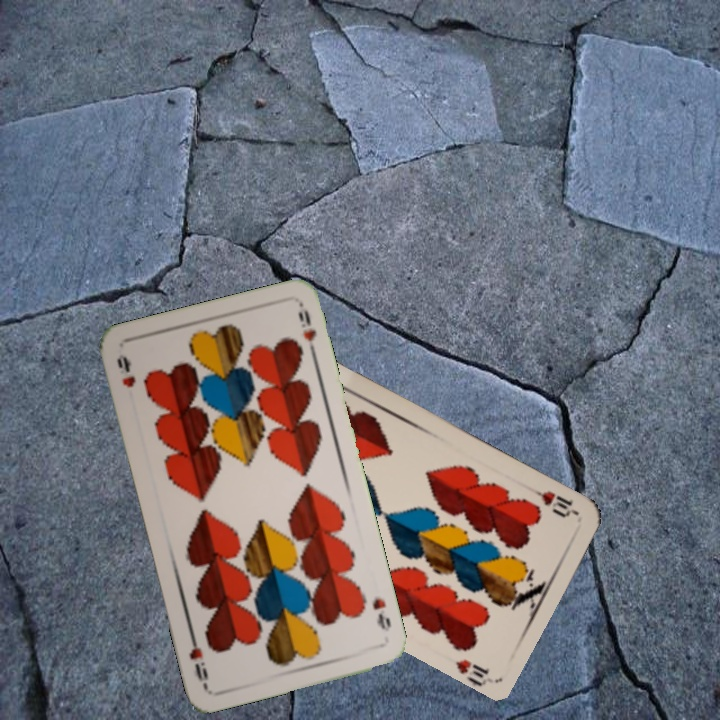H10: (525, 483, 581, 520)
H9: (112, 350, 138, 390), (368, 594, 394, 634)
